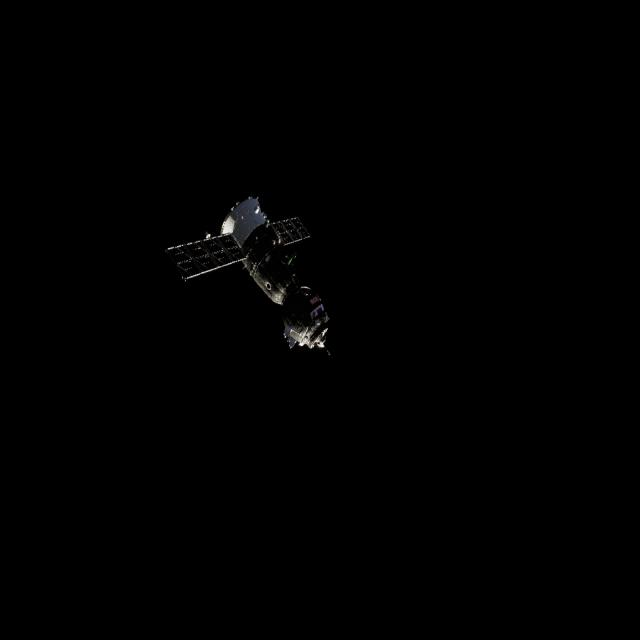Satellites revolving around earth: (163, 193, 333, 357)
